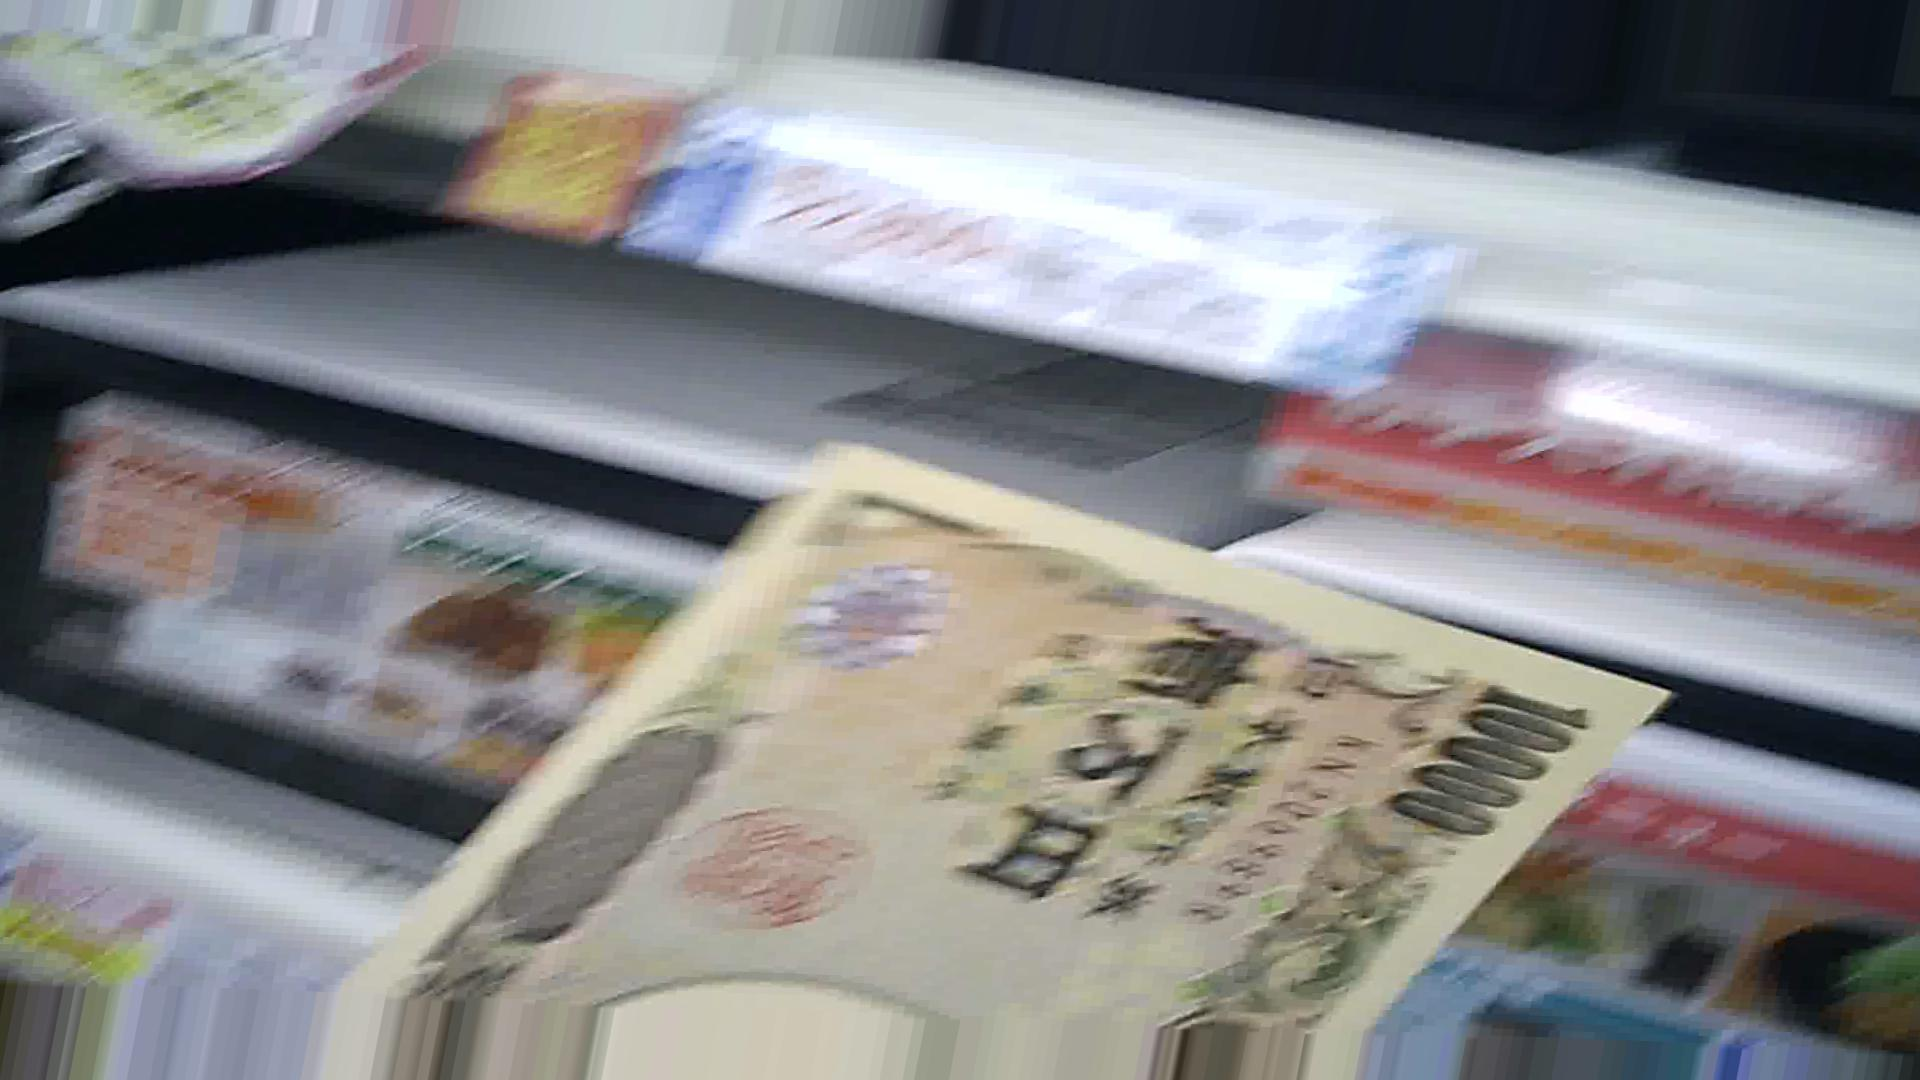10,000 Yen: (531, 402, 1611, 1015)
